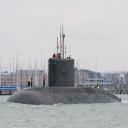submarine: (7, 25, 128, 103)
